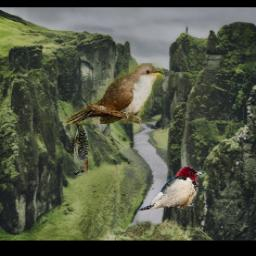Cuckoo: (66, 64, 165, 125)
Woodpecker: (138, 167, 206, 211), (66, 115, 88, 176)
